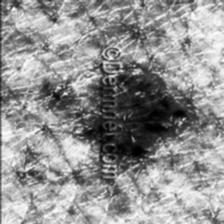Potentially Malignant Skin Tumors: (92, 66, 182, 162)
